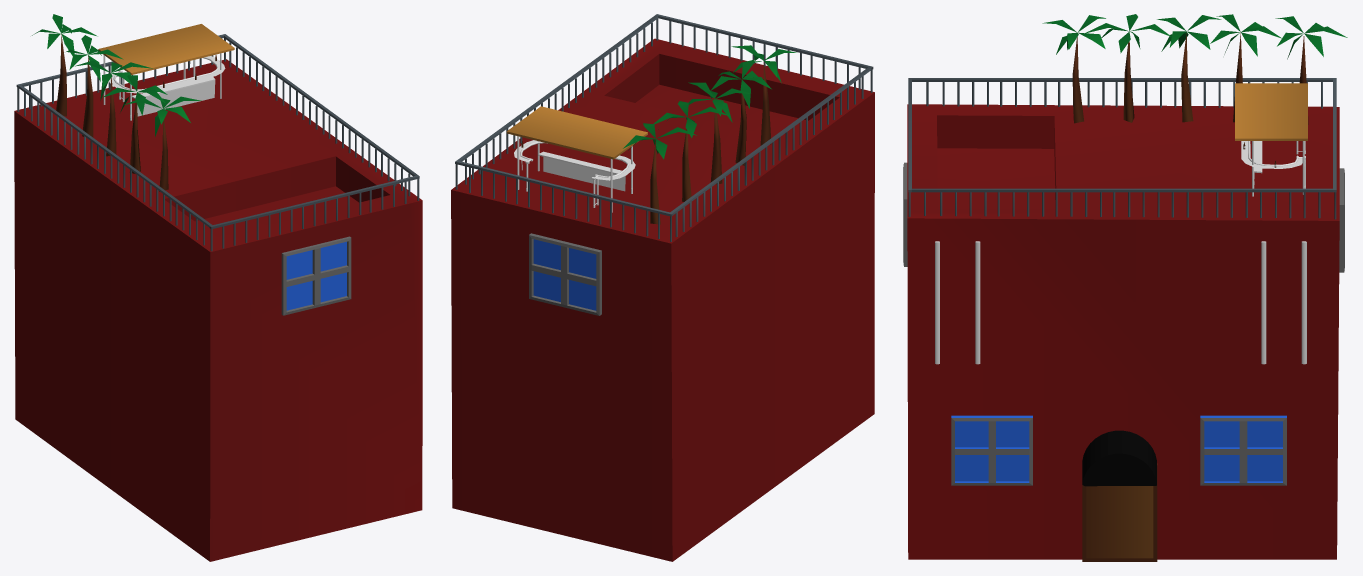
Rendered from CasaLuces.fbx.
3 views of the same model, side by side, from view 1: azimuth 30°, elevation 25°; view 2: azimuth 150°, elevation 25°; view 3: azimuth 270°, elevation 25° (orthographic). The views are drawn at different scales.
Visible parts, largest first — view 1: Cubo, Cubo.011, Plane.014, Cube.042, Cube.006, Cube.005, Cubo.008, Cubo.007, Cube, Cube.002, Cube.004, Cubo.002; view 2: Cubo, Cubo.009, Plane.014, Cube.042, Cubo.008, Cubo.007, Cube.002, Cube.004, Cube.006, Cube.005, Cubo.006, Cubo.002 (+1 smaller); view 3: Cubo, Cubo.001, Cubo.004, Cubo.005, Plane.014, Cubo.007, Cubo.008, Cube.004, Cube, Cube.002, Cube.005, Cube.006 (+5 smaller).
Part boxes in pixels (x1,y1,x2,y2): Cubo: (14,59,422,561); Cubo.011: (281,236,351,315); Plane.014: (98,24,234,74); Cube.042: (132,77,215,116); Cube.006: (32,14,97,116); Cube.005: (63,35,123,137); Cubo.008: (18,85,212,227); Cubo.007: (224,35,417,176); Cube: (124,96,201,191); Cube.002: (102,75,167,173); Cube.004: (73,60,152,156); Cubo.002: (209,175,419,229); Cubo: (451,38,874,561); Cubo.009: (529,233,601,315); Plane.014: (506,106,647,159); Cube.042: (538,151,625,191); Cubo.008: (670,67,871,214); Cubo.007: (457,15,658,161); Cube.002: (710,59,771,165); Cube.004: (688,82,750,184); Cube.006: (623,123,696,224); Cube.005: (653,101,728,202); Cubo.006: (455,160,673,216); Cubo.002: (656,14,873,69); Cubo: (907,104,1339,559); Cubo.001: (1082,430,1157,561); Cubo.004: (1200,415,1286,485); Cubo.005: (951,415,1032,485); Plane.014: (1235,83,1307,140); Cubo.007: (911,188,1332,192); Cubo.008: (911,78,1332,81); Cube.004: (1157,15,1221,122); Cube: (1042,15,1105,123); Cube.002: (1084,14,1171,122); Cube.005: (1210,14,1281,122); Cube.006: (1275,16,1347,124).
Size of the model in its own units: 2361 by 3445 by 3176.
